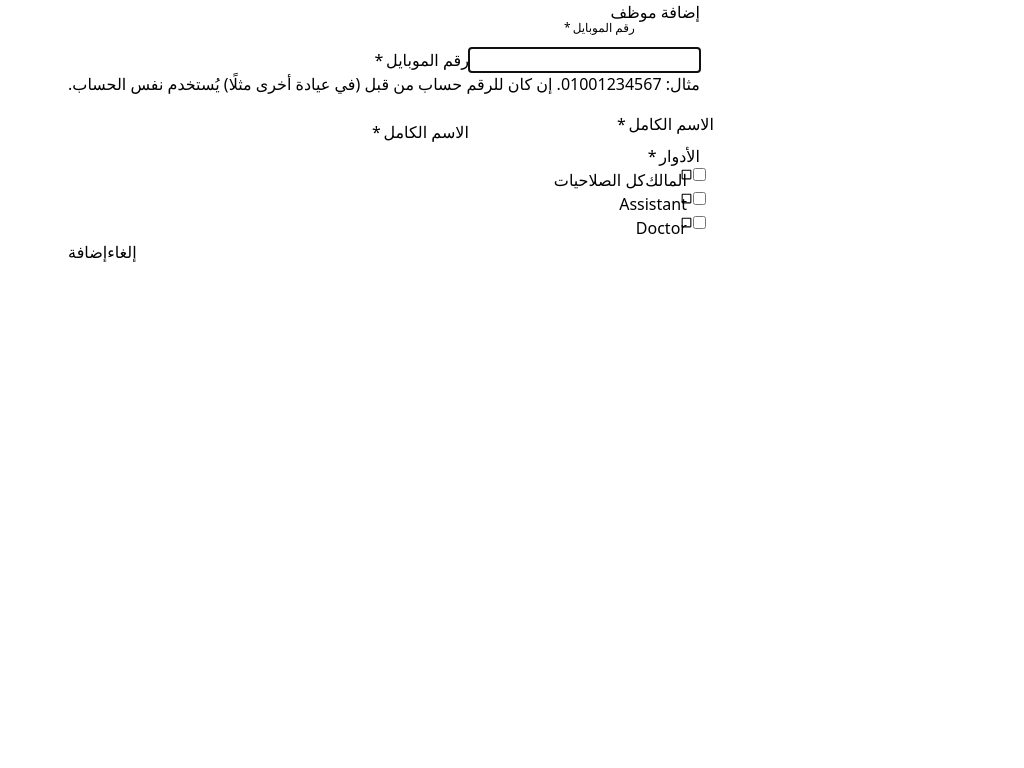
add a staff member @area:admin › the API answers roleNotFound: the message under the roles, the boxes aria-invalid, the first box focused @ADM-248
Type keys "01001234567"
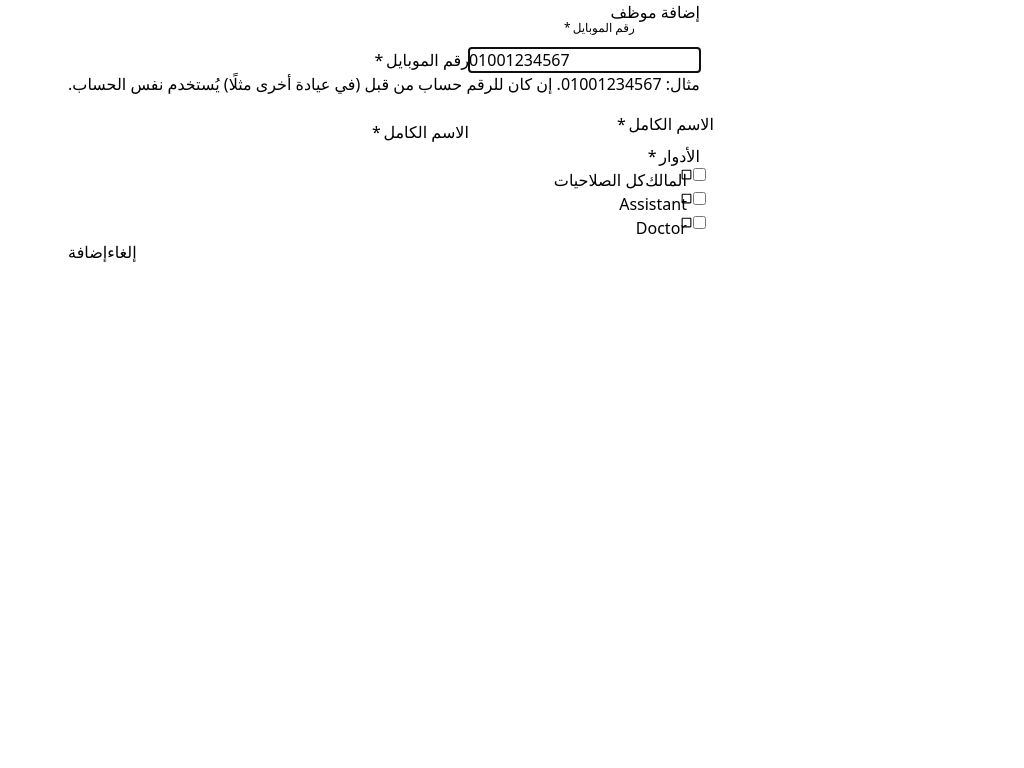
Type "نور" into the field labelled "الاسم الكامل *" at [584, 132], box [469,120,700,144]
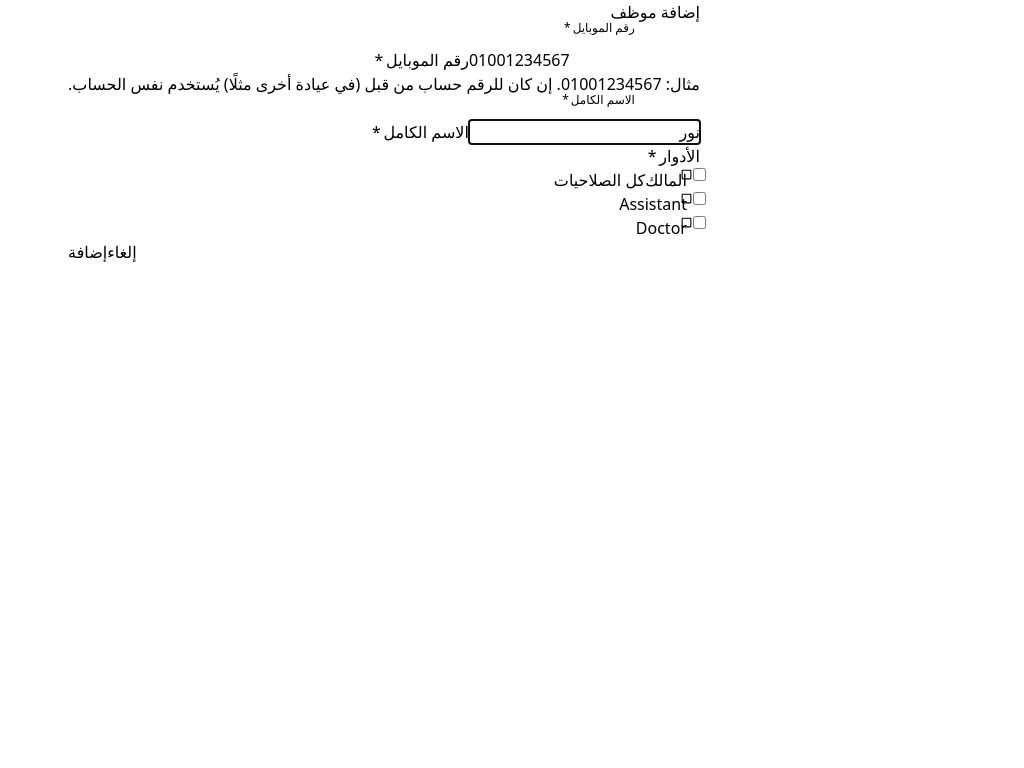
Click the checkbox labelled "Assistant" at [700, 198], box [693,192,706,205]
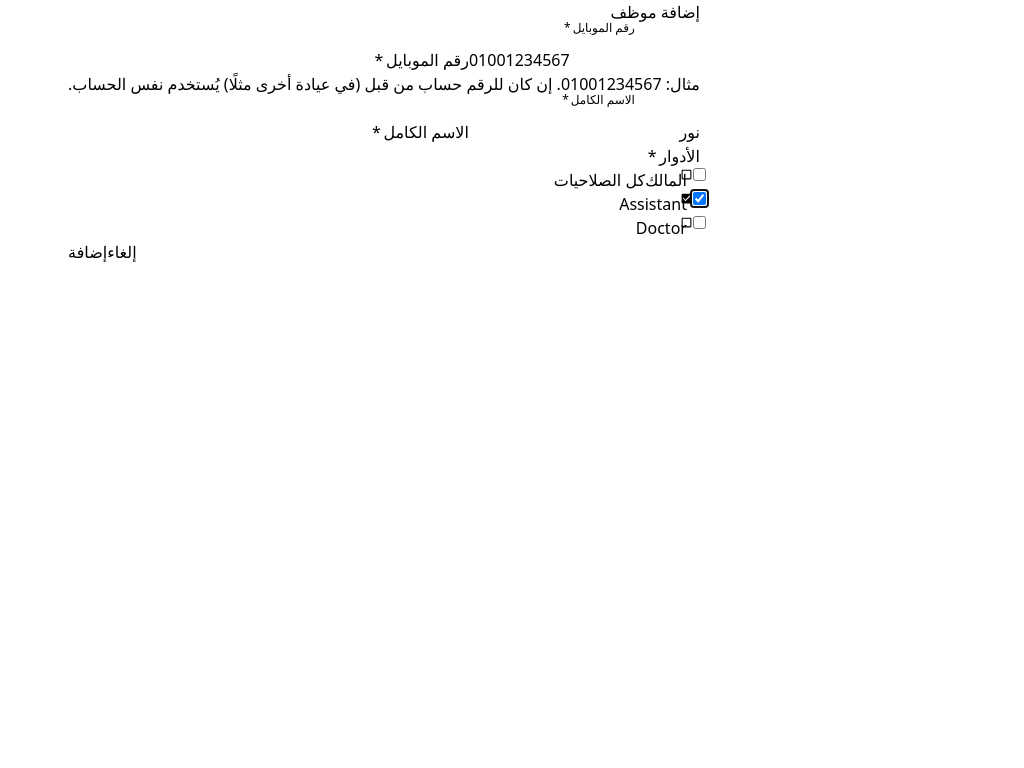
Click the button "إضافة" at [88, 252], box [68,240,107,264]
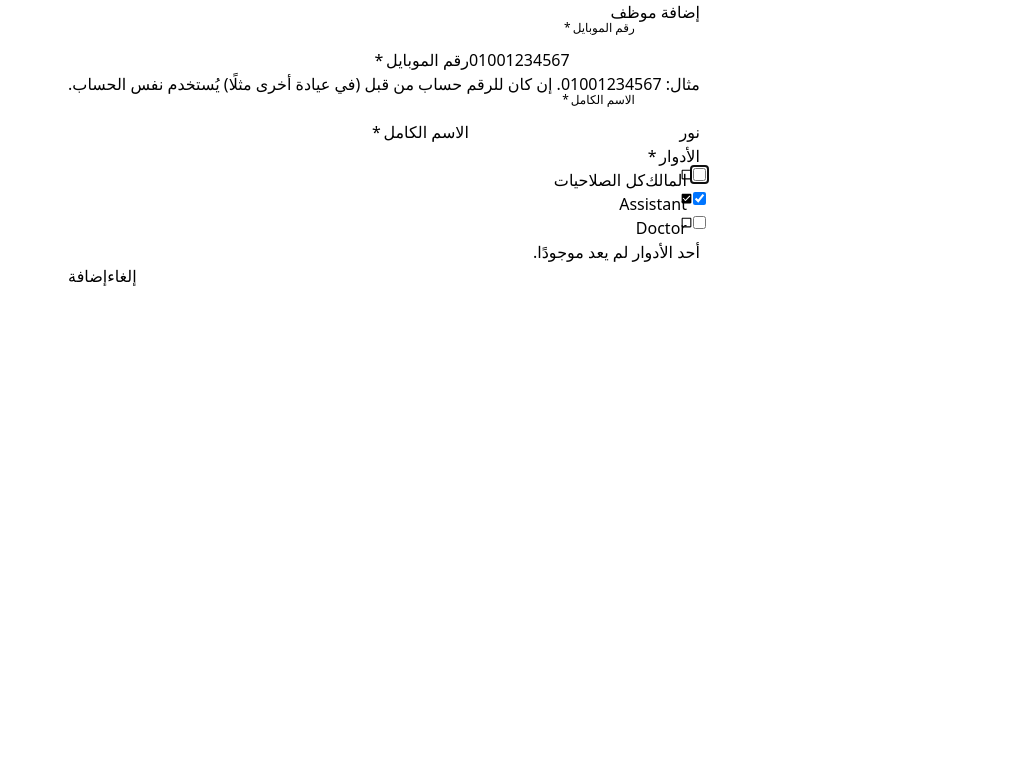
Expected: the checkbox labelled "المالككل الصلاحيات" is shown, [693,168,706,181]
Expected: the text "أحد الأدوار لم يعد موجودًا." is shown, [533,241,700,263]
